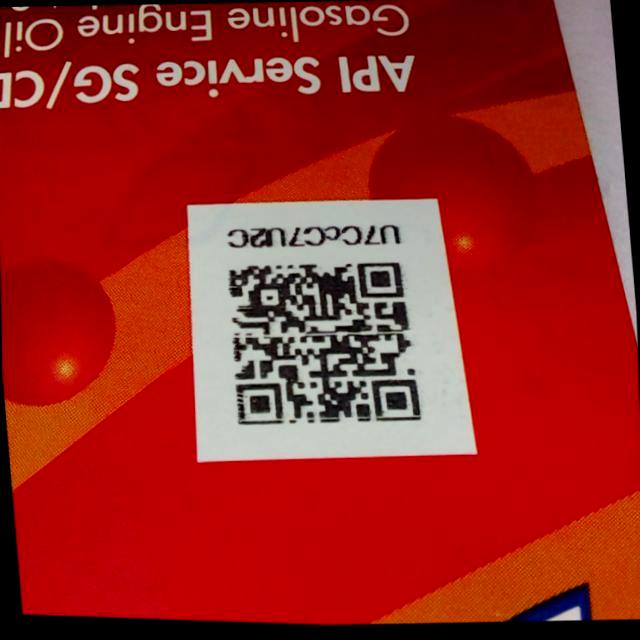QRCode: (214, 251, 431, 447)
